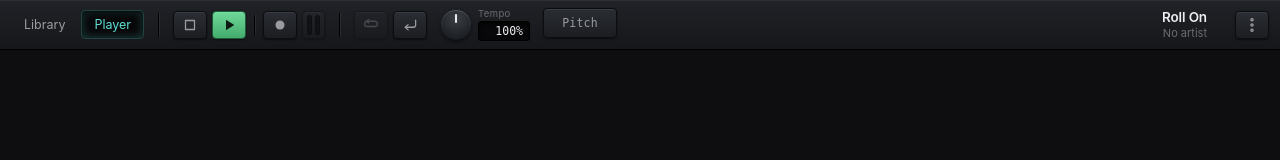
Test case: the pitch controls in the header › folds away again on Escape
Click the button with aria-label "Pitch controls" at (580, 23), box [543,8,617,38]
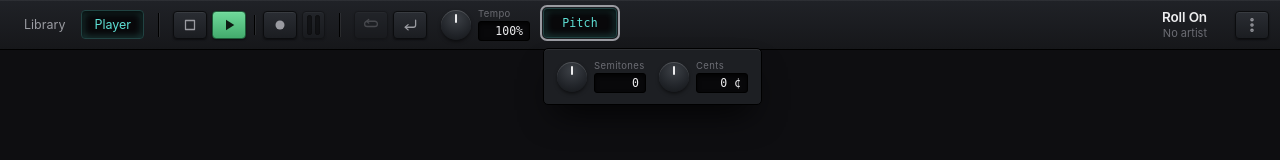
Press Escape
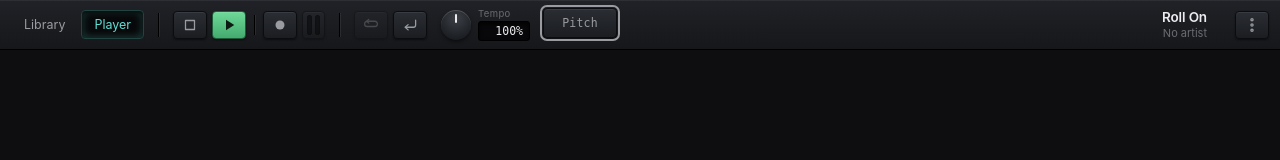
Expected: the text labelled "Cents" is gone
